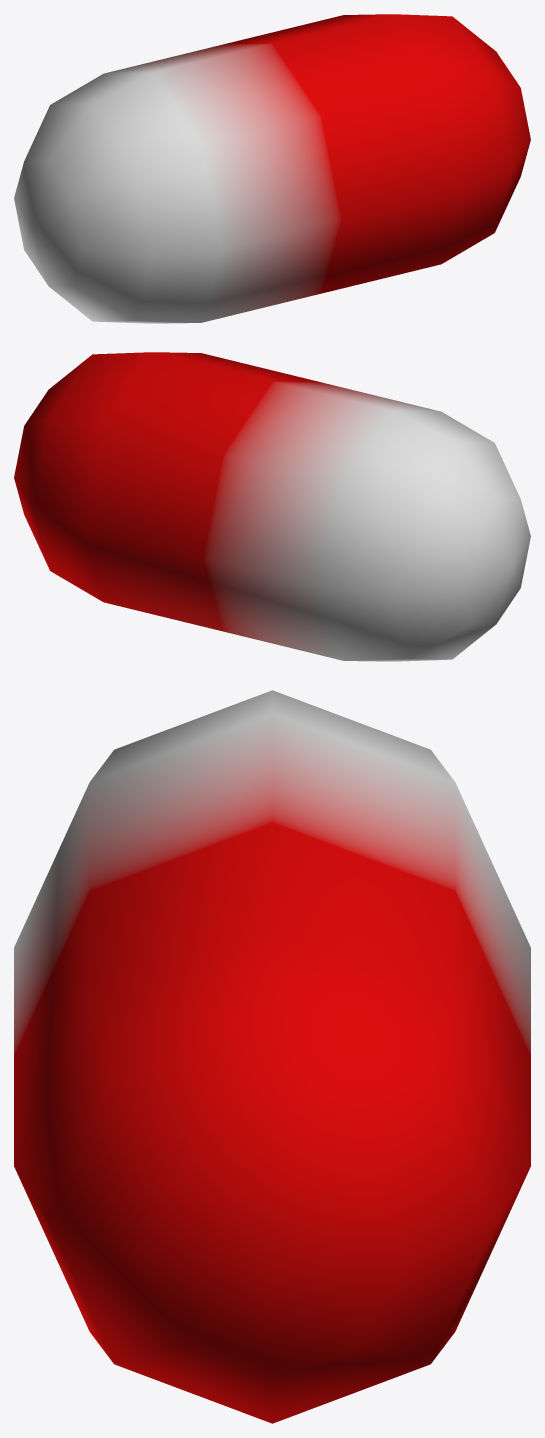
The model's file is pildora.fbx.
3 renders of one model, top to bottom at view 1: azimuth 30°, elevation 25°; view 2: azimuth 150°, elevation 25°; view 3: azimuth 270°, elevation 25°, orthographic. The views are drawn at different scales.
Visible parts, largest first — view 1: pildora; view 2: pildora; view 3: pildora.
Part boxes in pixels (left/top/right/bottom): pildora: left=14, top=14, right=530, bottom=323; pildora: left=14, top=352, right=530, bottom=661; pildora: left=14, top=690, right=530, bottom=1423.
Bounding box in the file's own units: 4 × 2 × 2.
